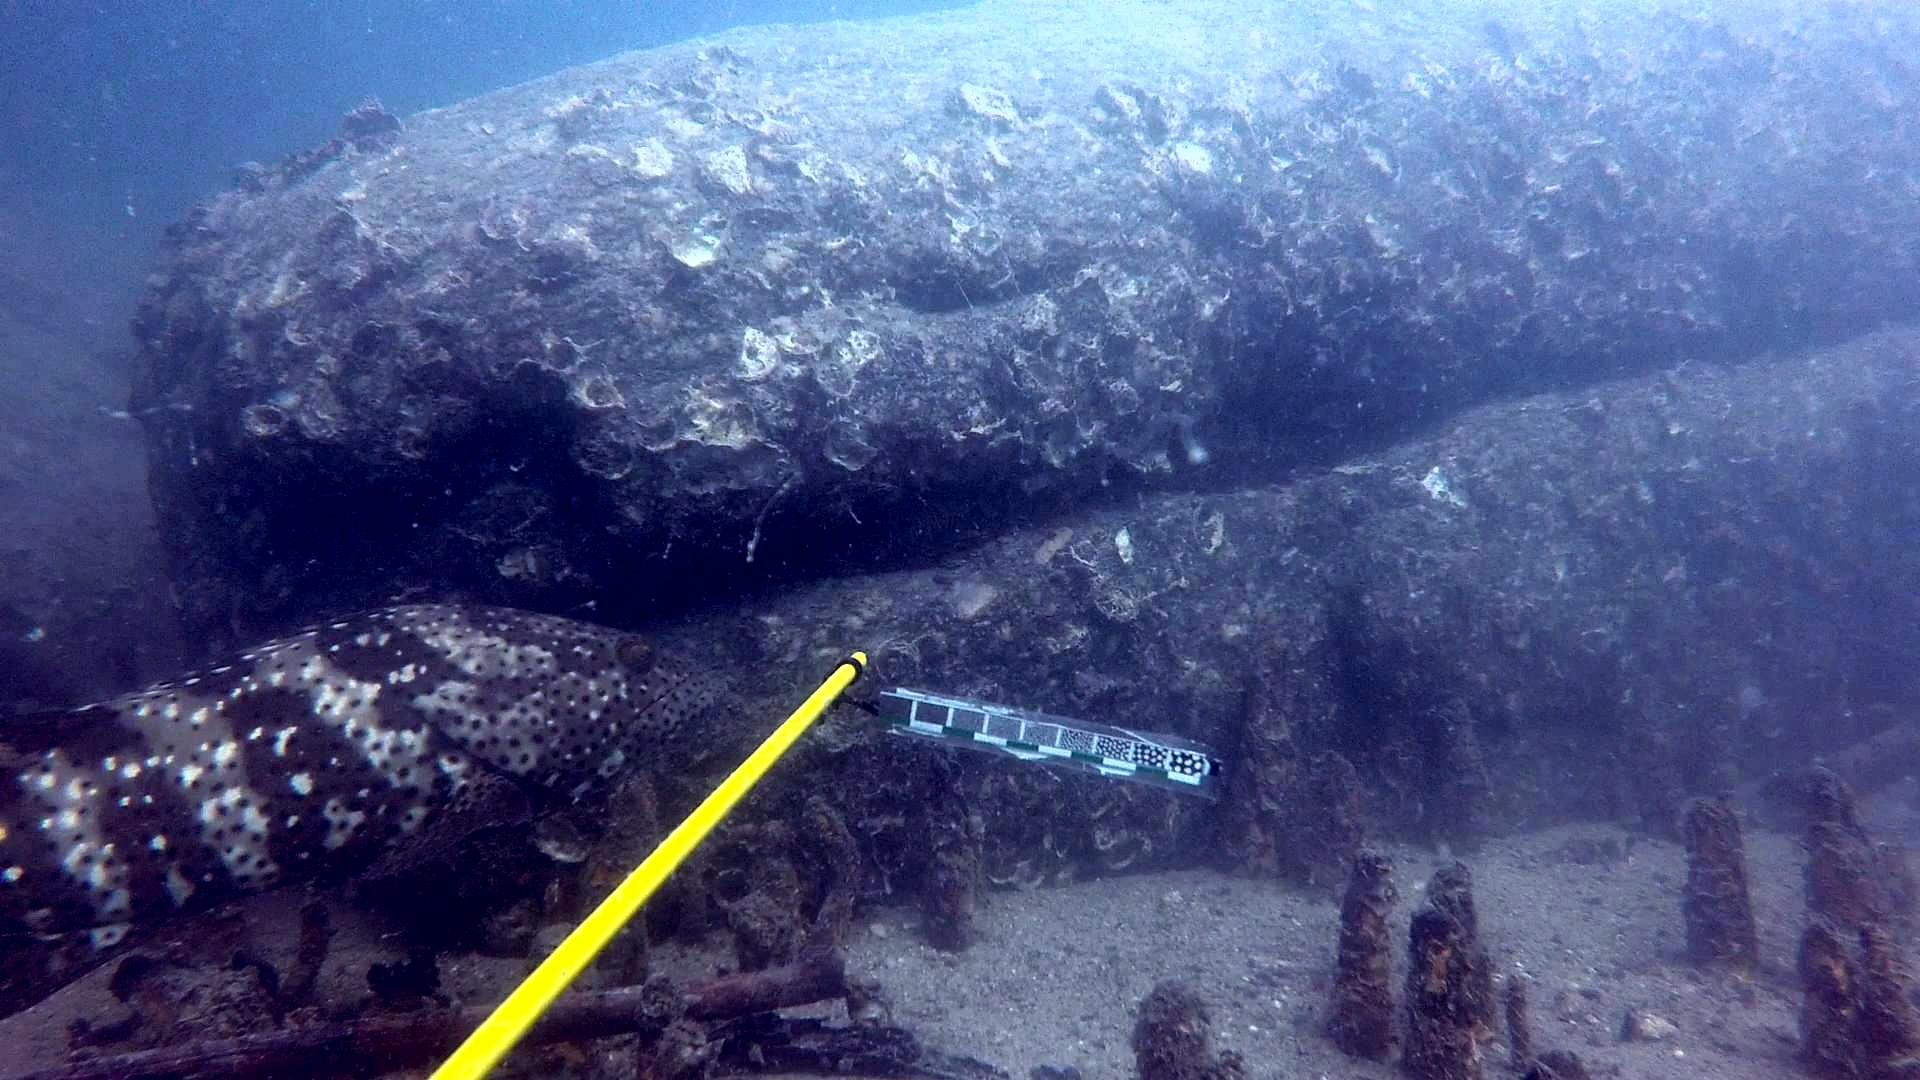epinephelus: (0, 591, 745, 1029)
